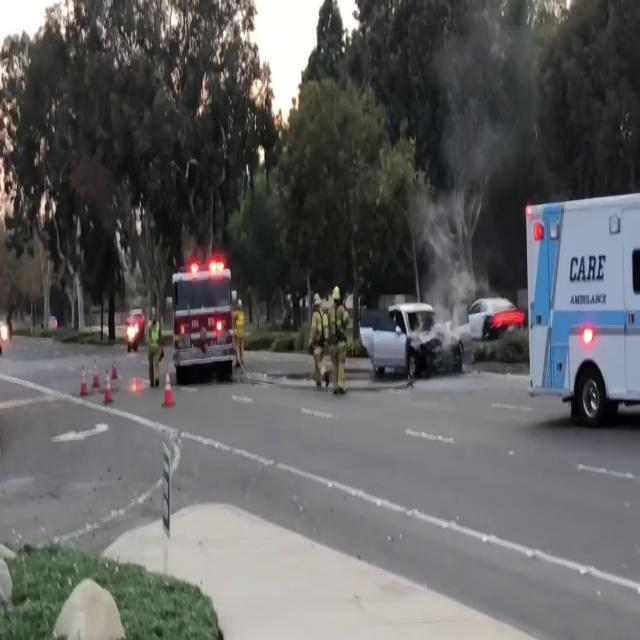Smoke: (419, 4, 516, 344)
